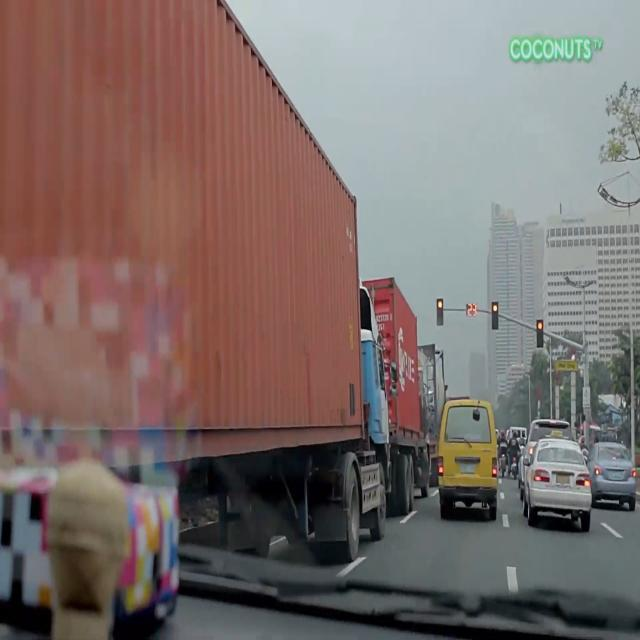motorcycle: (509, 428, 522, 480), (497, 426, 509, 480)
truck: (0, 0, 390, 560), (359, 276, 432, 514)
